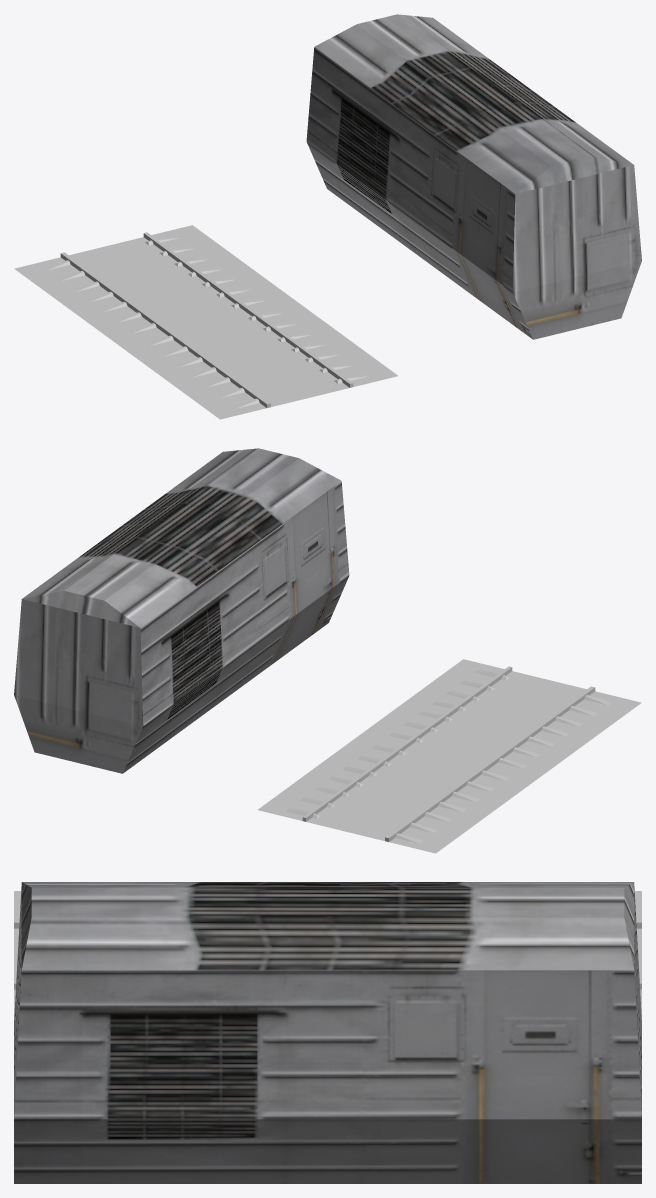
Rendered from trainpack.fbx.
3 views of the same model, one above another, from view 1: azimuth 30°, elevation 25°; view 2: azimuth 150°, elevation 25°; view 3: azimuth 270°, elevation 25° (orthographic). The views are drawn at different scales.
Parts seen in each view (by area): view 1: Cube, Plane.001, Plane.002; view 2: Cube, Plane.002, Plane.001; view 3: Cube, Plane.001, Plane.002.
Part boxes in pixels (<box>): Cube: <box>306,14,641,339</box>; Plane.001: <box>117,300,397,419</box>; Plane.002: <box>14,225,295,343</box>; Cube: <box>14,448,349,773</box>; Plane.002: <box>258,734,538,853</box>; Plane.001: <box>360,659,641,777</box>; Cube: <box>14,882,641,1183</box>; Plane.001: <box>14,891,21,1019</box>; Plane.002: <box>634,891,641,1019</box>.
Bounding box in the file's own units: 472 × 178 × 400.
